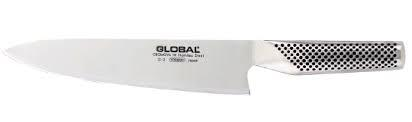Knife: (2, 38, 405, 94)
